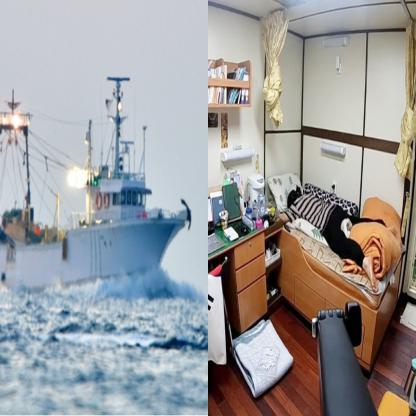fish-b: (0, 69, 195, 300)
